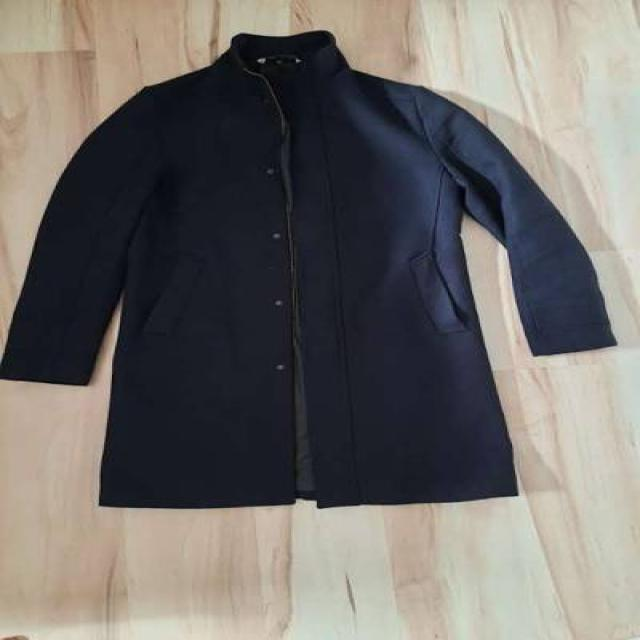non-organik: (0, 27, 631, 518)
